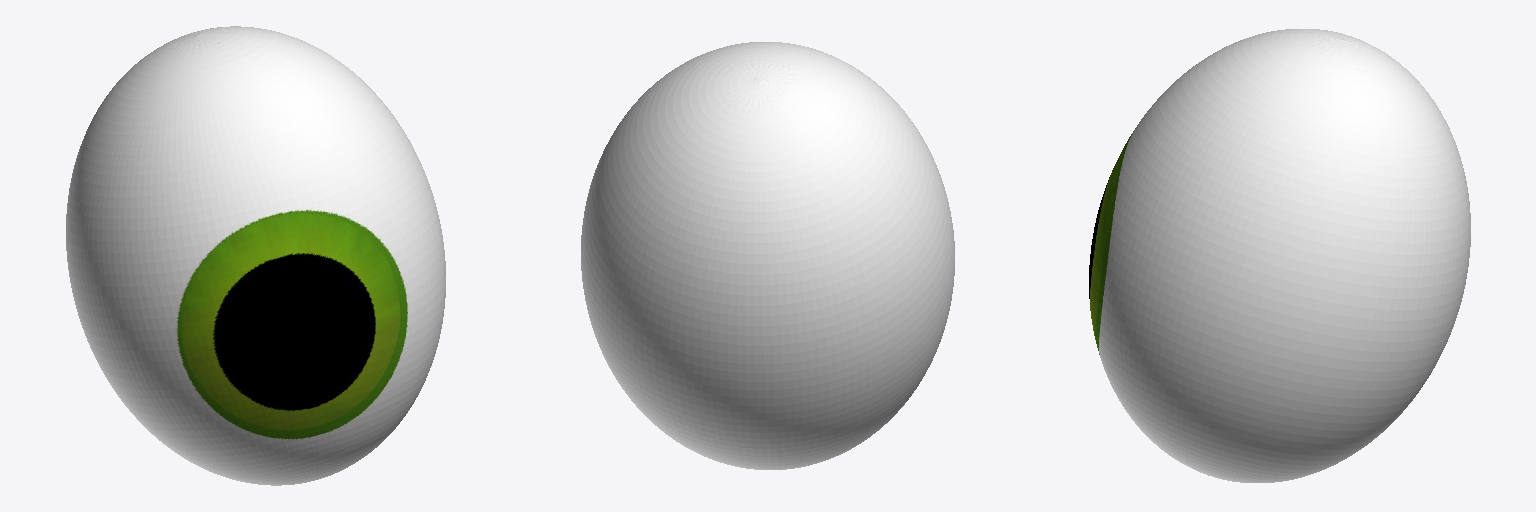
3 renders of one model, left to right at view 1: azimuth 30°, elevation 25°; view 2: azimuth 150°, elevation 25°; view 3: azimuth 270°, elevation 25°, orthographic.
Parts seen in each view (by area): view 1: Group14; view 2: Group14; view 3: Group14.
Part boxes in pixels (x1,y1,x2,y2): Group14: (66, 26, 445, 485); Group14: (581, 42, 954, 469); Group14: (1089, 29, 1470, 482).
Bounding box in the file's own units: 2.41 × 2.96 × 2.45.
1 materials, 1 textured.